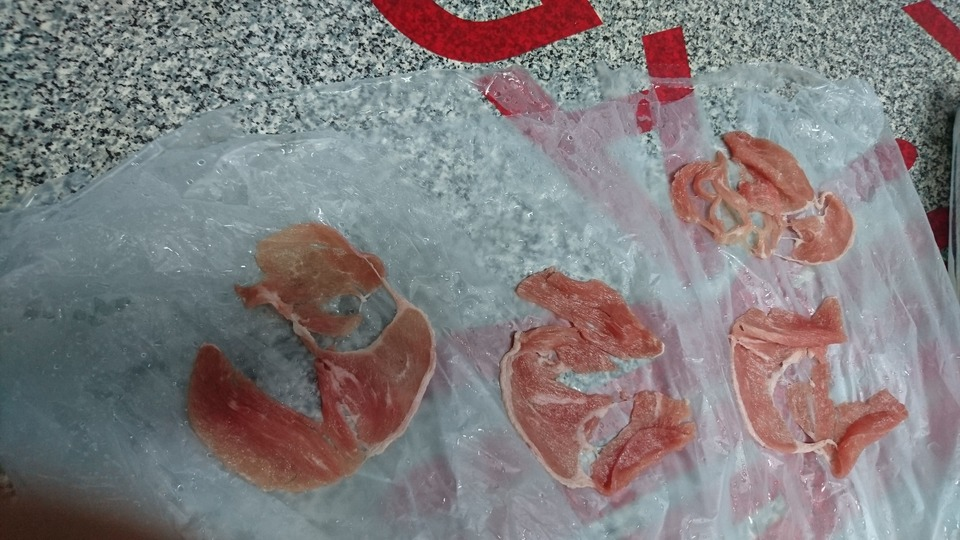restructured meat: (180, 221, 440, 497), (498, 262, 700, 500), (728, 287, 916, 478), (665, 122, 855, 268)
